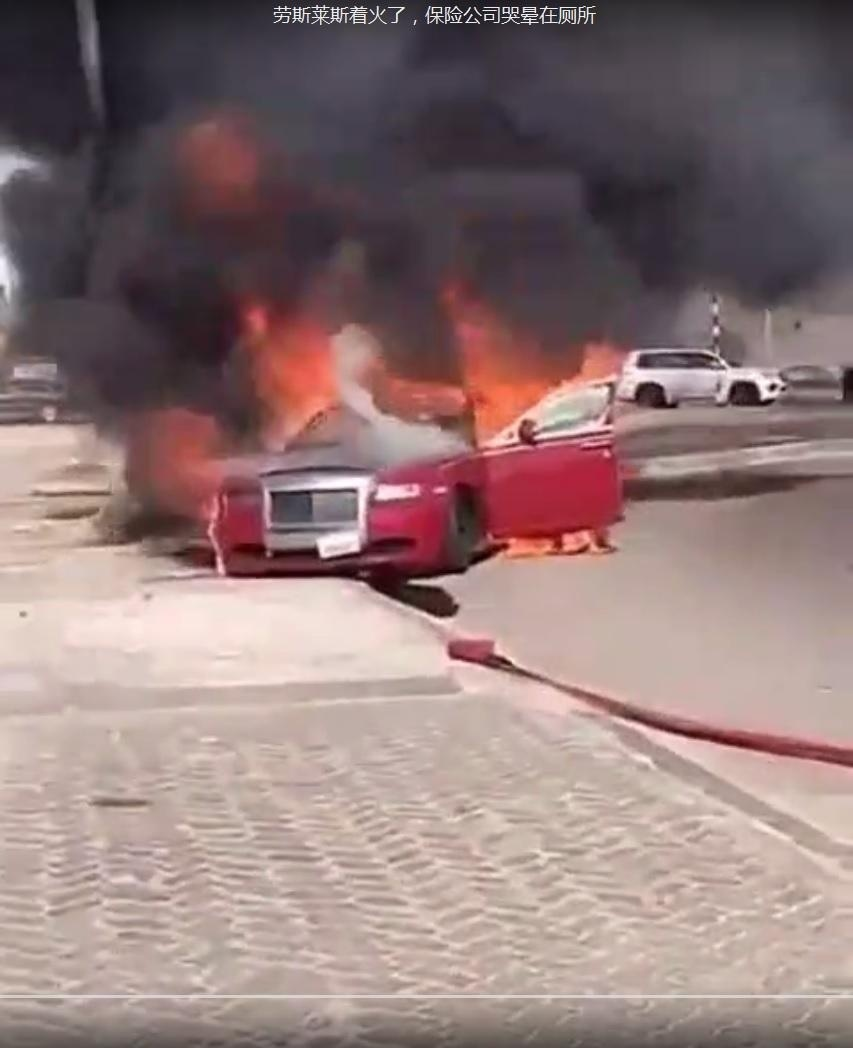fire: (166, 289, 615, 452)
